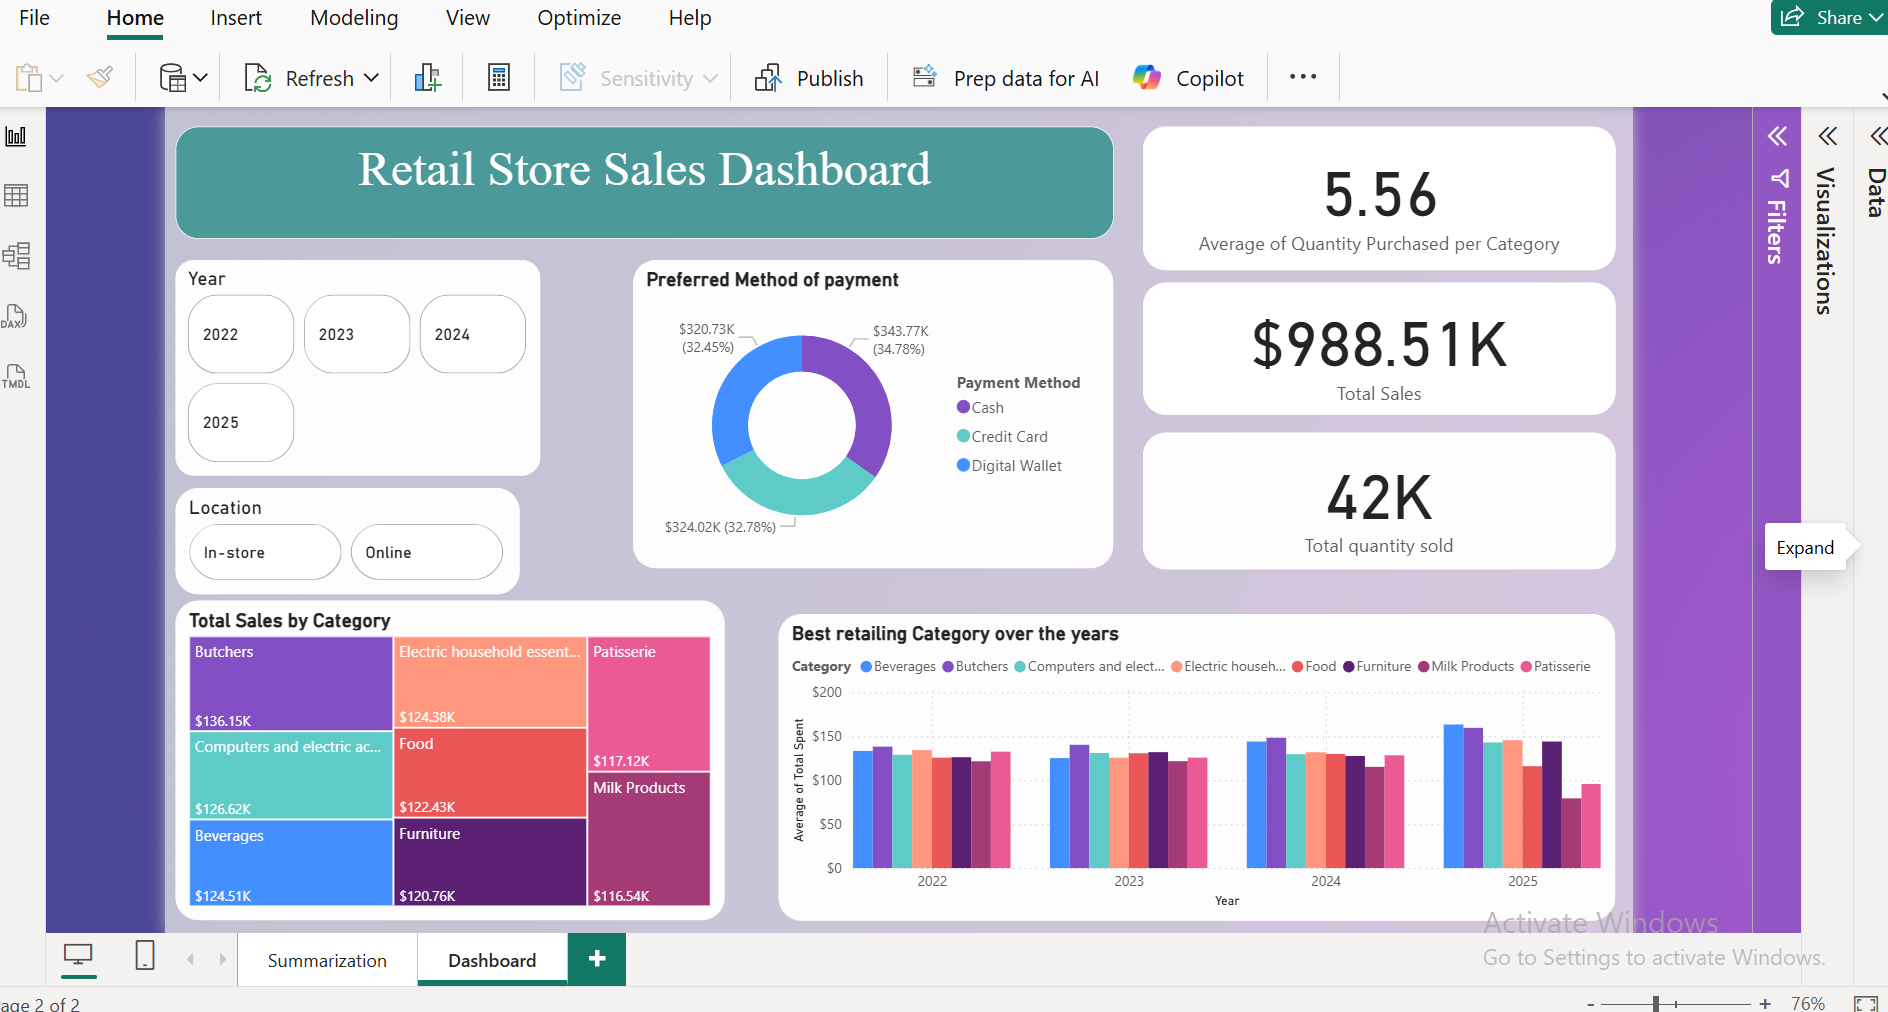

The page's visual inventory and layout, read from the dashboard file:
{"tool":"powerbi","page":{"name":"Dashboard","canvas":[1280,720],"ordinal":1},"visuals":[{"type":"textbox","box":[8.6,17.3,818.3,97.8],"z":0},{"type":"treemap","title":"Total Sales by Category","fields":{"Group":["retail_store_sales.Category"],"Values":["Sum(retail_store_sales.Total Spent)"]},"box":[9.1,430,478.5,278.6],"z":1000},{"type":"card","fields":{"Values":["Avg(retail_store_sales.Quantity)"]},"box":[852.5,17,411.9,125.5],"z":2000},{"type":"donutChart","title":"Preferred Method of payment","fields":{"Category":["retail_store_sales.Payment Method"],"Y":["Sum(retail_store_sales.Total Spent)"]},"box":[408.4,133.7,418.5,268.9],"z":3000},{"type":"clusteredColumnChart","title":"Best retailing Category over the years","fields":{"Category":["retail_store_sales.Year"],"Series":["retail_store_sales.Category"],"Y":["Avg(retail_store_sales.Total Spent)"]},"box":[535,441.5,729.1,267.5],"z":4000},{"type":"advancedSlicerVisual","fields":{"Values":["retail_store_sales.Year"]},"box":[9.1,133.3,318,187.8],"z":5000},{"type":"card","fields":{"Values":["Sum(retail_store_sales.Total Spent)"]},"box":[852.5,152.9,411.9,115.1],"z":6000},{"type":"advancedSlicerVisual","fields":{"Values":["retail_store_sales.Location"]},"box":[9.1,331.6,299.8,92.4],"z":7000},{"type":"card","fields":{"Values":["Sum(retail_store_sales.Quantity)"]},"box":[852.5,283.2,411.9,119.6],"z":8000}]}

Visuals, with their boxes on the page's 1280x720 design canvas (x1, y1, x2, y2). These are canvas units, not pixel positions in the 1888x1012 screenshot, which may show the page scaled, cropped or inside an application window:
textbox: BBox(9, 17, 827, 115)
"Total Sales by Category" treemap: BBox(9, 430, 488, 709)
card - Avg(retail_store_sales.Quantity): BBox(852, 17, 1264, 142)
"Preferred Method of payment" donutChart: BBox(408, 134, 827, 403)
"Best retailing Category over the years" clusteredColumnChart: BBox(535, 442, 1264, 709)
advancedSlicerVisual - retail_store_sales.Year: BBox(9, 133, 327, 321)
card - Sum(retail_store_sales.Total Spent): BBox(852, 153, 1264, 268)
advancedSlicerVisual - retail_store_sales.Location: BBox(9, 332, 309, 424)
card - Sum(retail_store_sales.Quantity): BBox(852, 283, 1264, 403)
